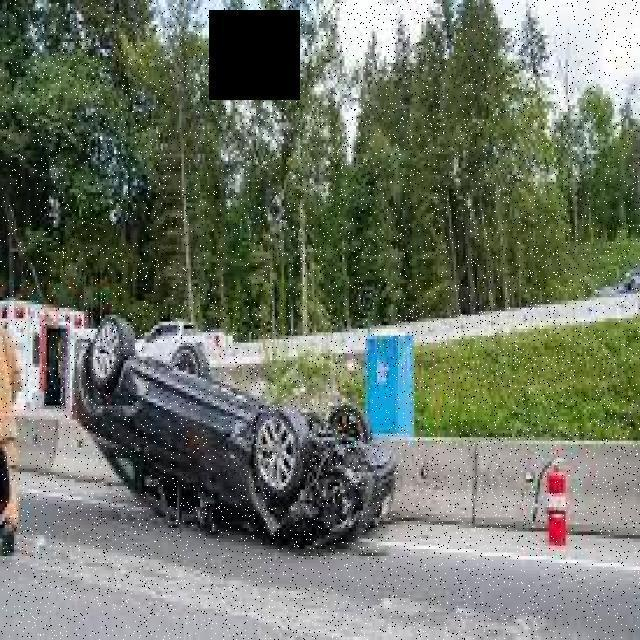single accident: (60, 269, 452, 625)
